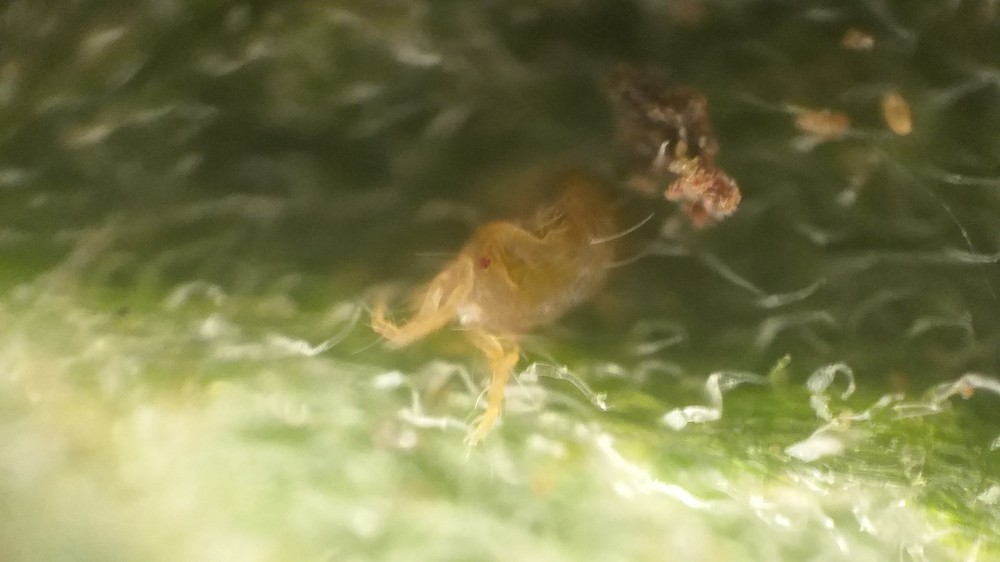Aracnido Rojo: (357, 152, 666, 461)
